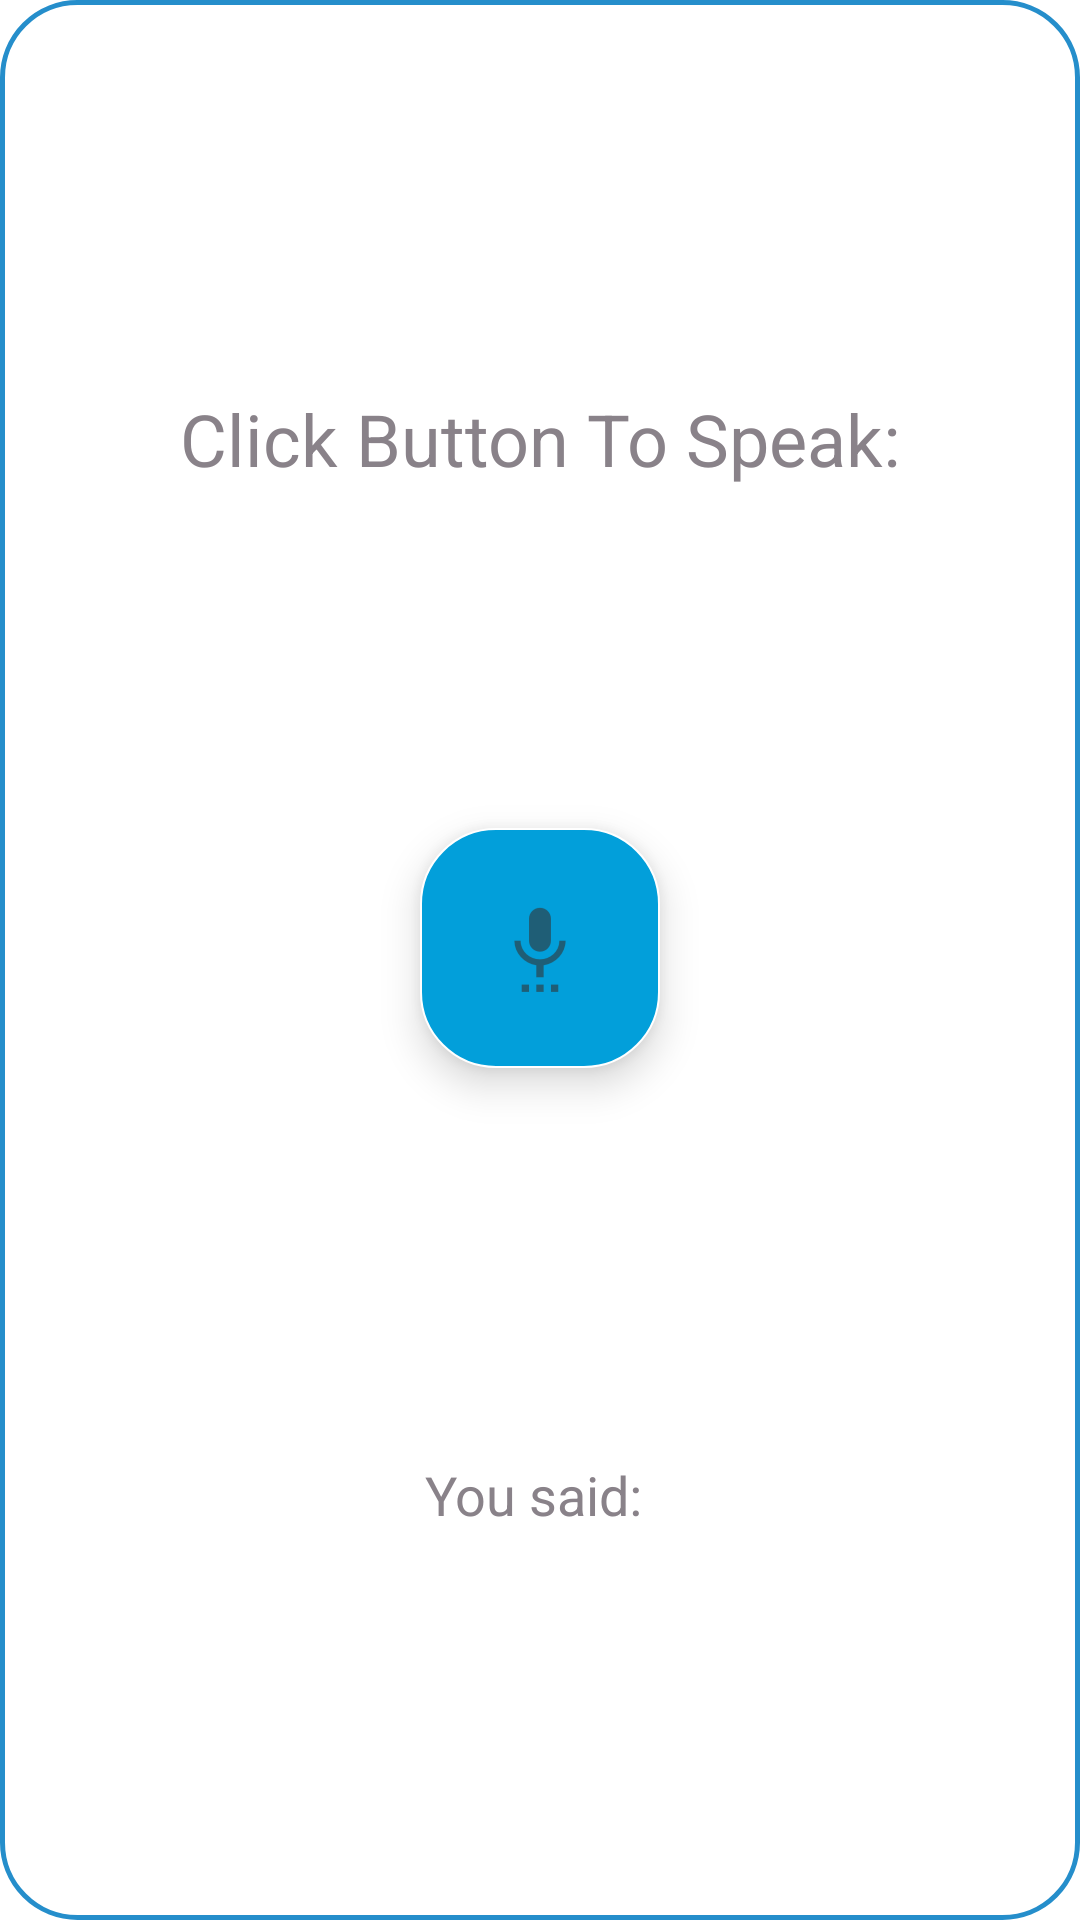

Screen size 1080 x 1920. Icon name, then its center in pixels as (x,y):
mic: (540,948)
